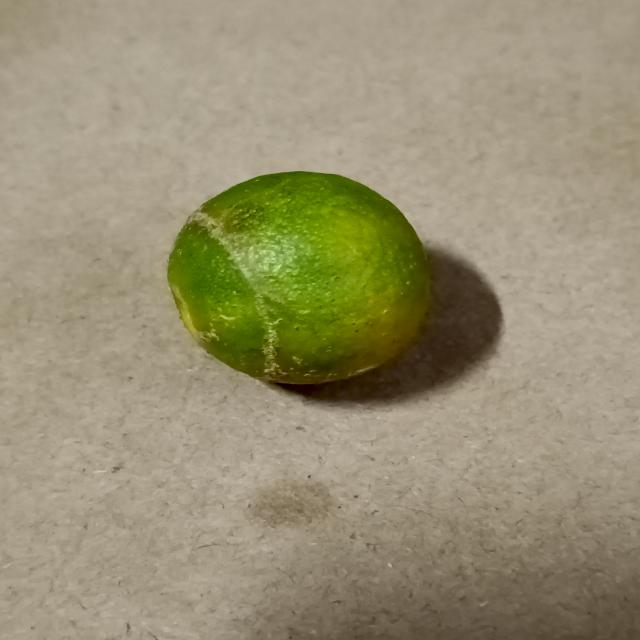thrips: (169, 161, 437, 390)
